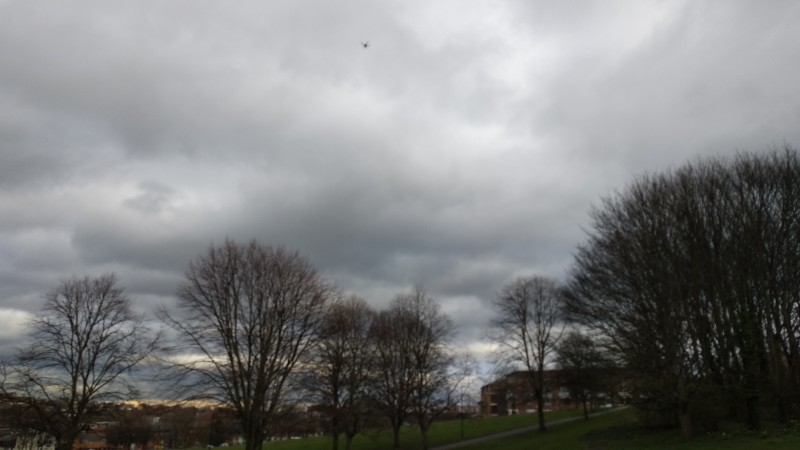drone: (357, 41, 371, 48)
